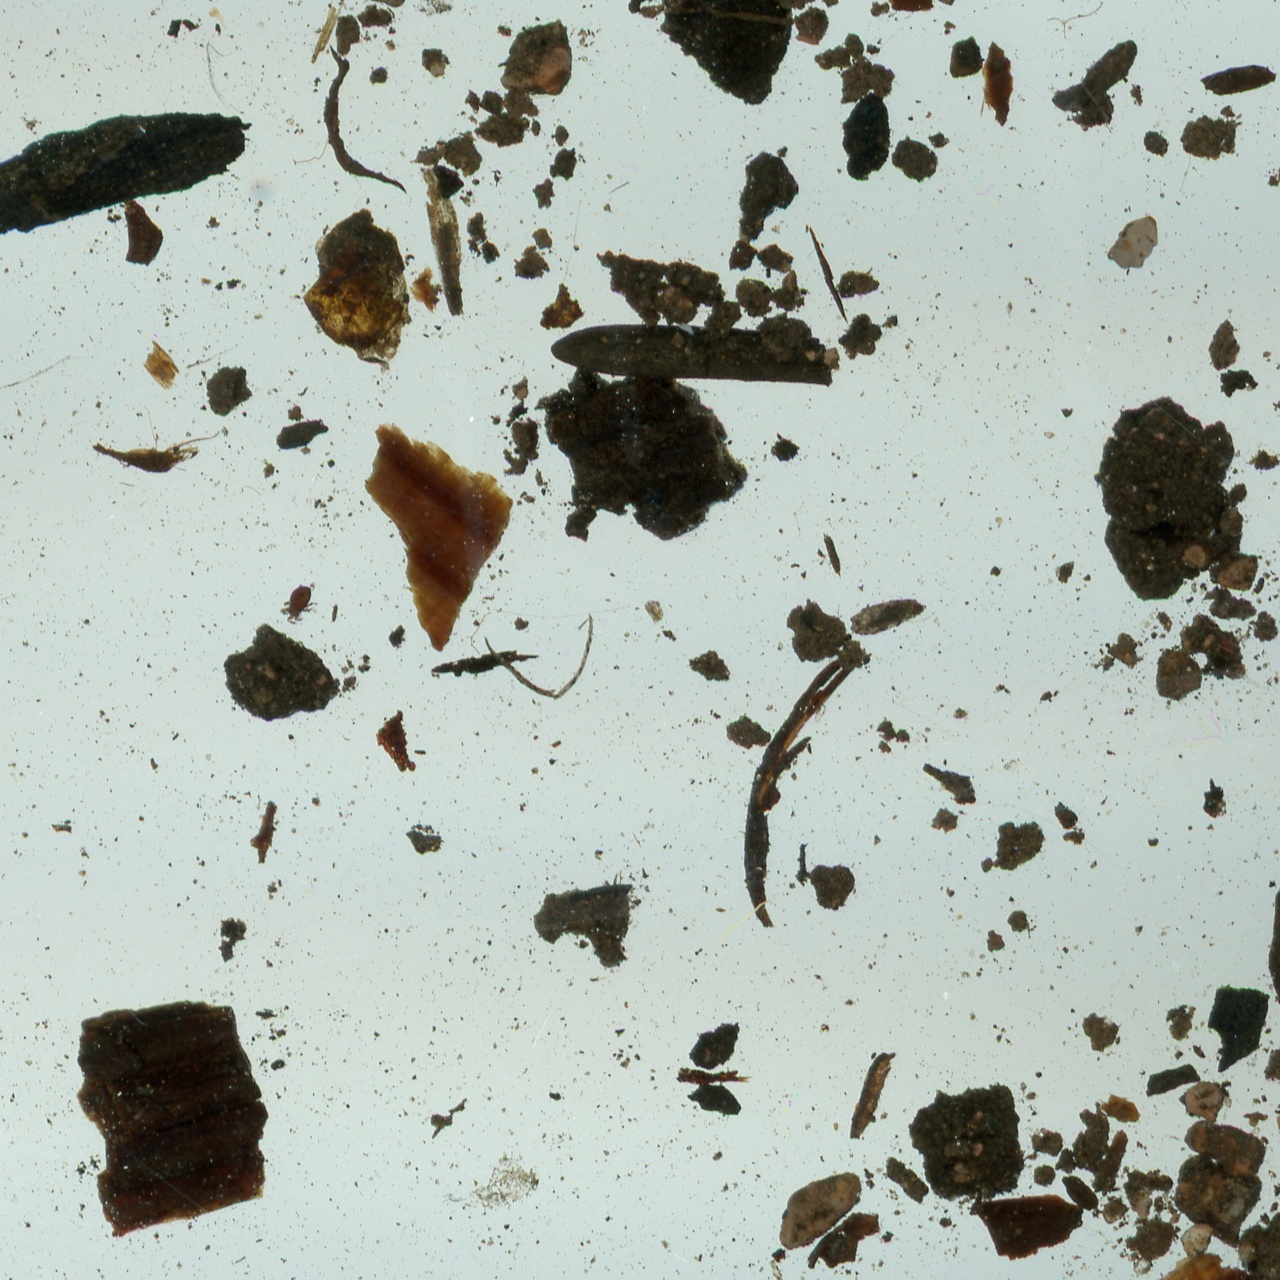arthropod: (279, 584, 316, 627)
